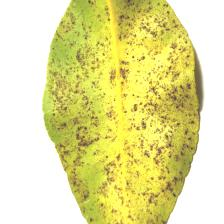canker: (64, 46, 182, 180)
